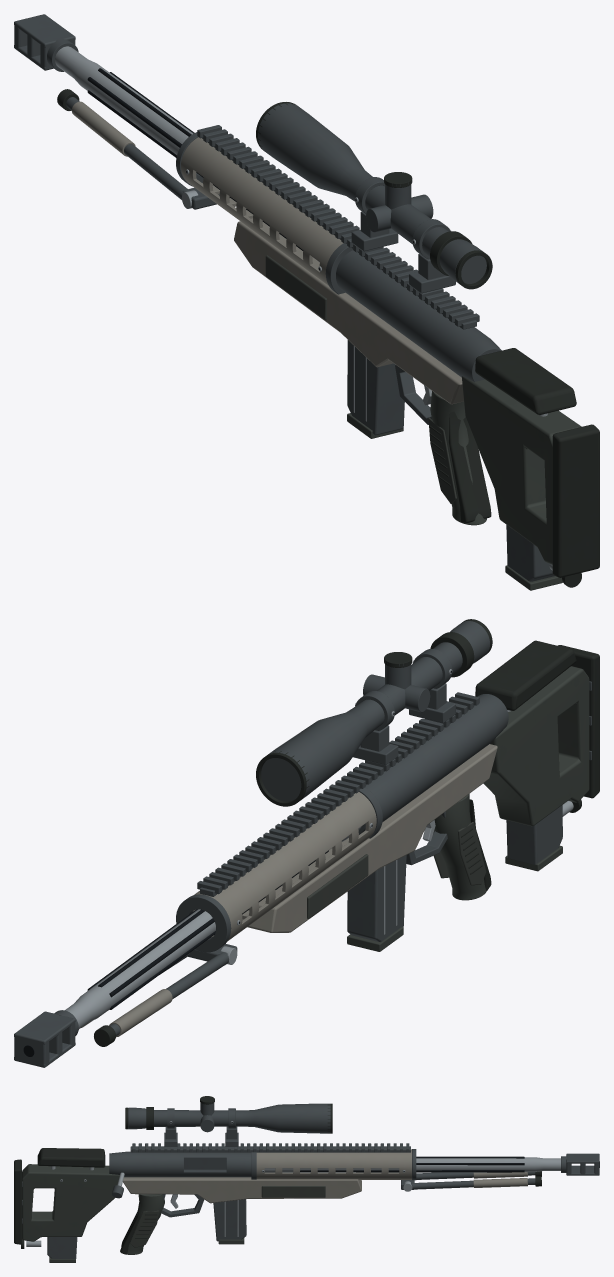
File: sniper.glb
The picture shows the model from 3 angles, top to bottom: view 1: azimuth 30°, elevation 25°; view 2: azimuth 150°, elevation 25°; view 3: azimuth 270°, elevation 25°; orthographic projection. The views are drawn at different scales.
Visible parts, largest first — view 1: Sniper_Static_Warm grey coating, Sniper_Static_Treated graphite, Sniper_Stock, Sniper_Scope, Sniper_Receiver, Sniper_Buttpad, Sniper_CheekRest, Sniper_Magazine, Sniper_Barrel, Sniper_Static_Dense rubber, Sniper_Static_Grip stipple, Sniper_Static_Recess shadow (+2 smaller); view 2: Sniper_Static_Warm grey coating, Sniper_Static_Treated graphite, Sniper_Stock, Sniper_Scope, Sniper_Receiver, Sniper_Barrel, Sniper_CheekRest, Sniper_Magazine, Sniper_Static_Grip stipple, Sniper_Grip, Sniper_SpareMagazine, Sniper_Static_Recess shadow (+6 smaller); view 3: Sniper_Static_Warm grey coating, Sniper_Stock, Sniper_Static_Treated graphite, Sniper_Scope, Sniper_Receiver, Sniper_Barrel, Sniper_Static_Grip stipple, Sniper_CheekRest, Sniper_Magazine, Sniper_Static_Recess shadow, Sniper_Buttpad, Sniper_Grip (+2 smaller).
Part boxes in pixels (<box>): Sniper_Static_Warm grey coating: <box>71,101,463,404</box>; Sniper_Static_Treated graphite: <box>14,14,479,424</box>; Sniper_Stock: <box>462,376,581,564</box>; Sniper_Scope: <box>258,103,486,283</box>; Sniper_Receiver: <box>336,250,501,382</box>; Sniper_Buttpad: <box>552,424,599,577</box>; Sniper_CheekRest: <box>475,348,576,414</box>; Sniper_Magazine: <box>347,340,404,435</box>; Sniper_Barrel: <box>55,46,319,262</box>; Sniper_Static_Dense rubber: <box>57,89,491,523</box>; Sniper_Static_Grip stipple: <box>265,255,479,503</box>; Sniper_Static_Recess shadow: <box>87,68,319,270</box>; Sniper_Static_Warm grey coating: <box>81,744,497,1037</box>; Sniper_Static_Treated graphite: <box>14,692,479,1067</box>; Sniper_Stock: <box>483,666,589,826</box>; Sniper_Scope: <box>261,621,489,801</box>; Sniper_Receiver: <box>358,694,508,834</box>; Sniper_Barrel: <box>65,826,361,1028</box>; Sniper_CheekRest: <box>475,640,576,710</box>; Sniper_Magazine: <box>347,855,406,941</box>; Sniper_Static_Grip stipple: <box>307,822,486,918</box>; Sniper_Grip: <box>433,794,486,900</box>; Sniper_SpareMagazine: <box>506,805,562,864</box>; Sniper_Static_Recess shadow: <box>23,824,372,1056</box>; Sniper_Static_Warm grey coating: <box>123,1149,527,1203</box>; Sniper_Stock: <box>22,1164,119,1241</box>; Sniper_Static_Treated graphite: <box>130,1143,599,1217</box>; Sniper_Scope: <box>128,1103,330,1133</box>; Sniper_Receiver: <box>109,1151,251,1177</box>; Sniper_Barrel: <box>264,1157,560,1172</box>; Sniper_Static_Grip stipple: <box>130,1186,325,1247</box>; Sniper_CheekRest: <box>37,1148,105,1167</box>; Sniper_Magazine: <box>213,1199,246,1241</box>; Sniper_Static_Recess shadow: <box>262,1156,599,1172</box>; Sniper_Buttpad: <box>14,1159,21,1244</box>; Sniper_Grip: <box>120,1194,164,1254</box>.
Size of the model in its own units: 0.0974 by 0.329 by 1.09.
Materials: 8 (8 with a texture image).
